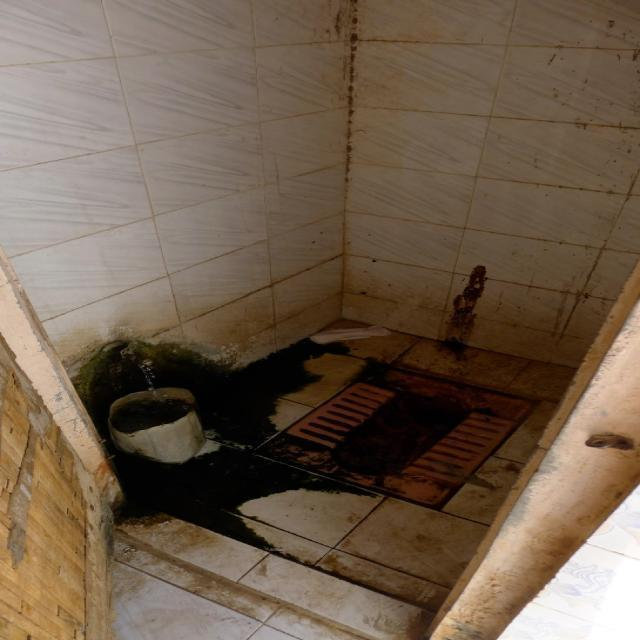mold_or_mildew: (78, 346, 264, 543)
tissue_trash: (307, 322, 393, 344)
urine_stain: (290, 394, 533, 504)
